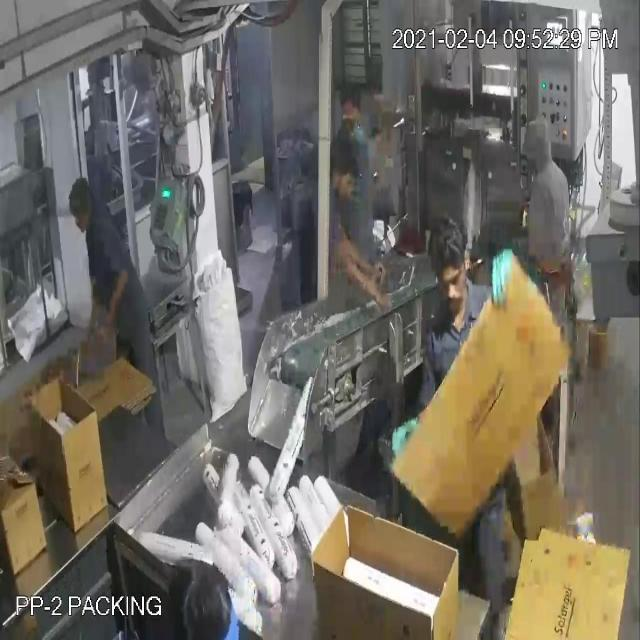No_Gloves: (38, 103, 360, 308)
